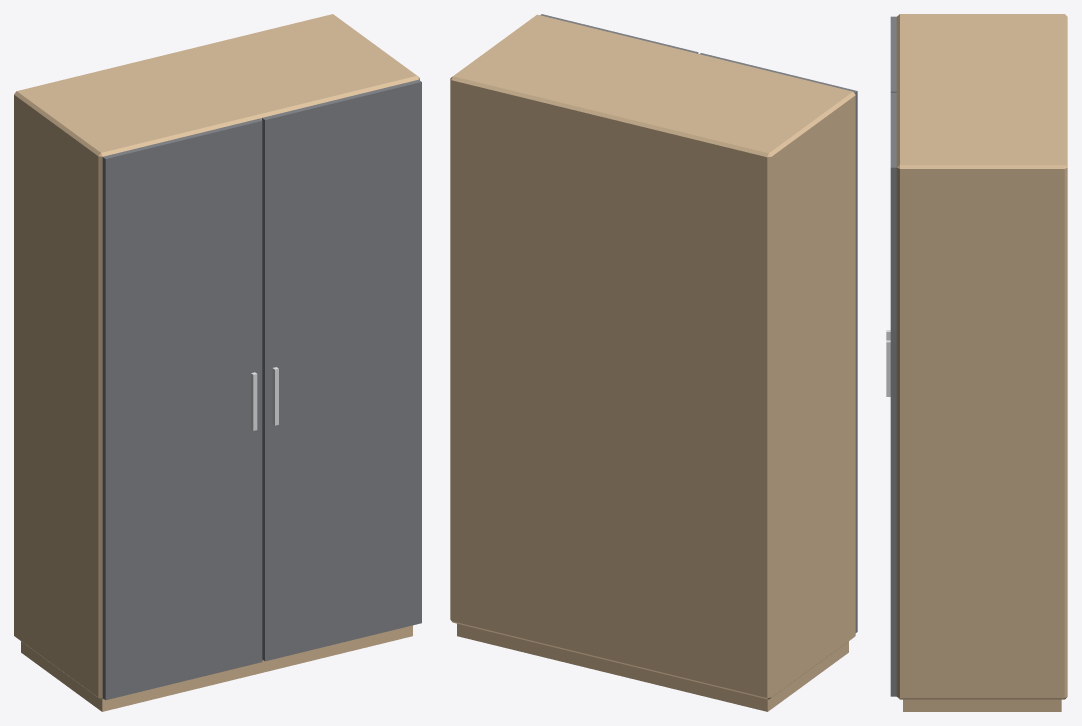
The model's file is cabinet.glb.
The picture shows the model from 3 angles, left to right: view 1: azimuth 30°, elevation 25°; view 2: azimuth 150°, elevation 25°; view 3: azimuth 270°, elevation 25°; orthographic projection. The views are drawn at different scales.
Visible parts, largest first — view 1: cabinet; view 2: cabinet; view 3: cabinet.
Boxes of the visible parts, <box> form: cabinet: <box>14,14,421,711</box>; cabinet: <box>450,14,857,711</box>; cabinet: <box>886,14,1067,711</box>.
Bounding box in the file's own units: 1.2 × 2 × 0.6.
